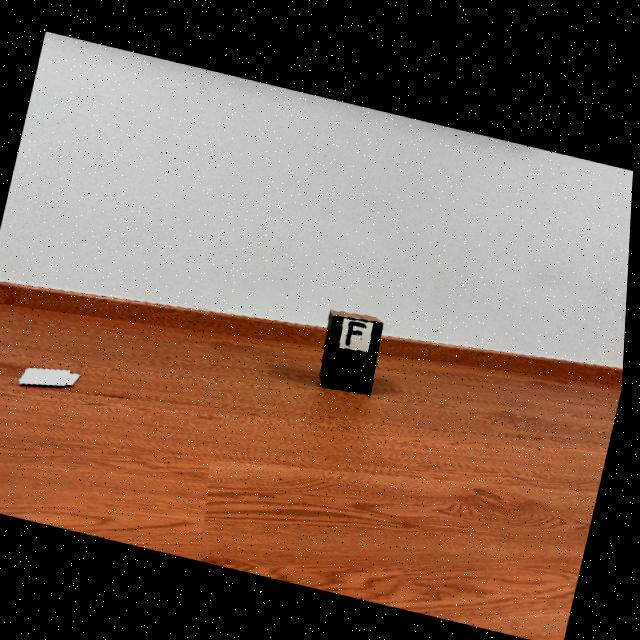F: (349, 317, 369, 342)
